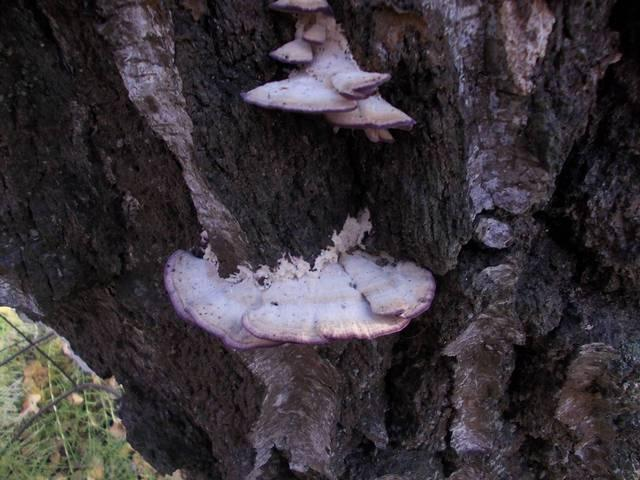Non-edible Mushroom: (161, 242, 437, 351), (239, 0, 416, 144)
